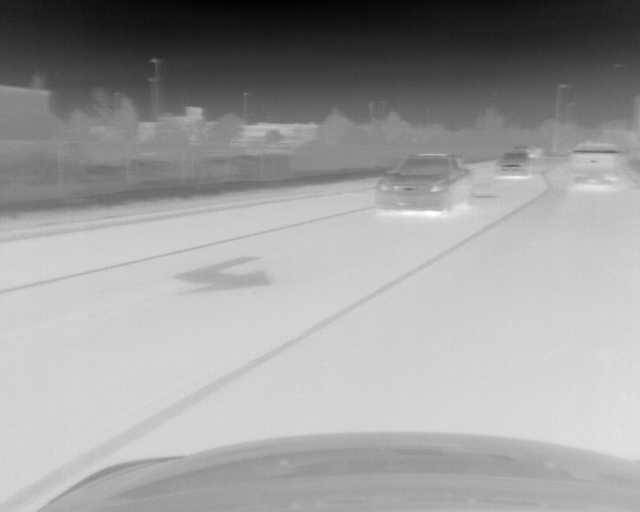car: (377, 152, 475, 215), (565, 138, 627, 194), (491, 151, 531, 181)
